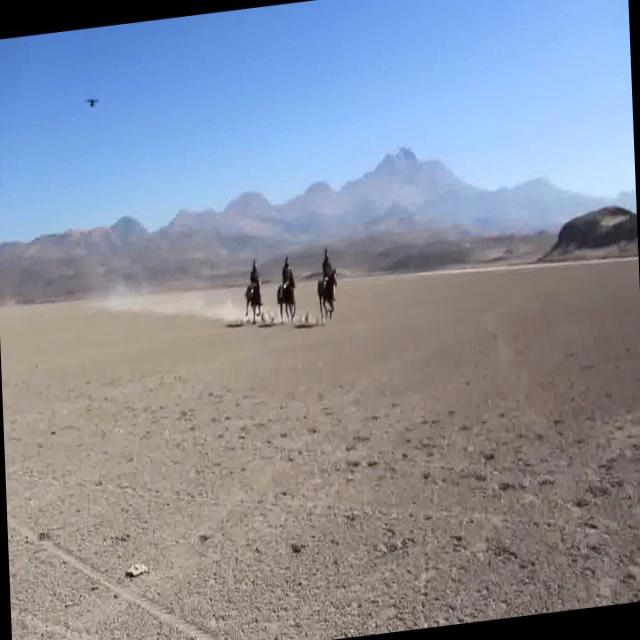drone: (82, 92, 100, 111)
